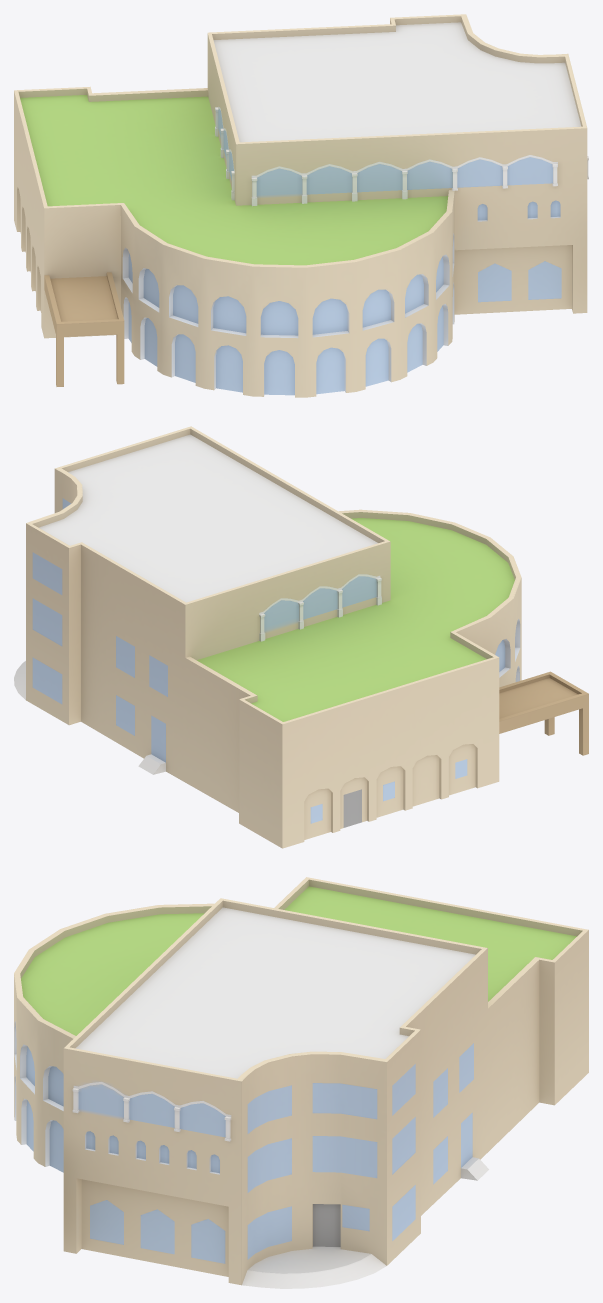
3 views of the same model, one above another, from view 1: azimuth 30°, elevation 25°; view 2: azimuth 150°, elevation 25°; view 3: azimuth 270°, elevation 25° (orthographic). The views are drawn at different scales.
Parts seen in each view (by area): view 1: 70030076422342986; view 2: 70030076422342986; view 3: 70030076422342986.
Boxes of the visible parts, left/top/right/bottom form: 70030076422342986: left=14, top=14, right=588, bottom=397; 70030076422342986: left=14, top=426, right=588, bottom=848; 70030076422342986: left=14, top=877, right=588, bottom=1288.
Size of the model in its own units: 10.97 by 3.6 by 9.17.
1 material, 1 textured.
